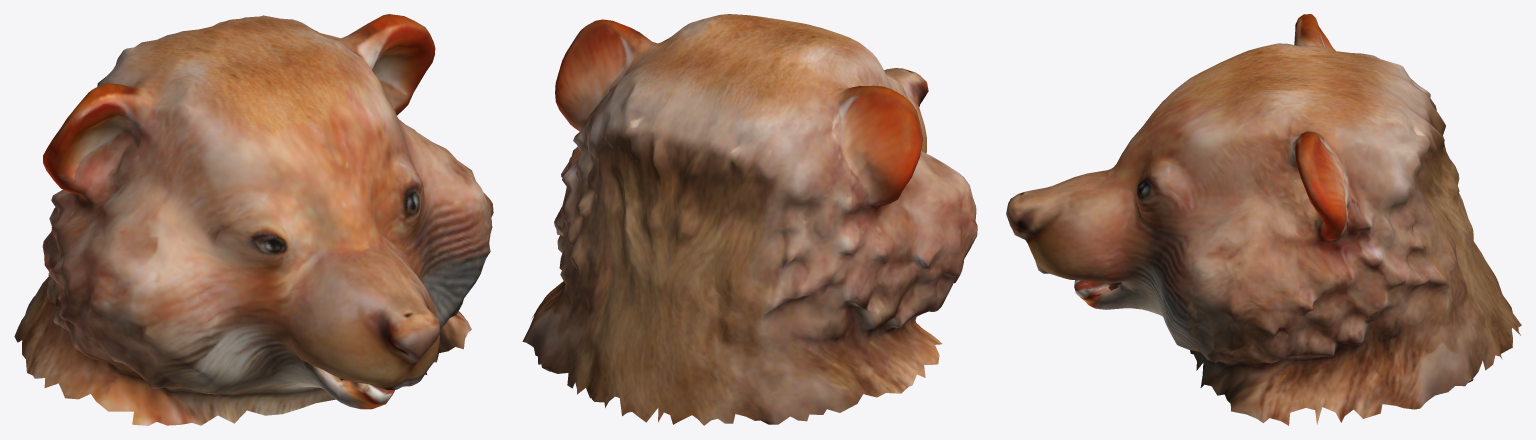
Rendered from vole.glb.
3 views of the same model, side by side, from view 1: azimuth 30°, elevation 25°; view 2: azimuth 150°, elevation 25°; view 3: azimuth 270°, elevation 25° (orthographic). The views are drawn at different scales.
Visible parts, largest first — view 1: Mesh_0; view 2: Mesh_0; view 3: Mesh_0.
Boxes of the visible parts, box(x1,y1,x2,y2) form: Mesh_0: box(14, 14, 493, 425); Mesh_0: box(522, 14, 977, 425); Mesh_0: box(1006, 14, 1521, 425).
Size of the model in its own units: 0.9938 by 0.7266 by 1.25.
1 material, 1 textured.
